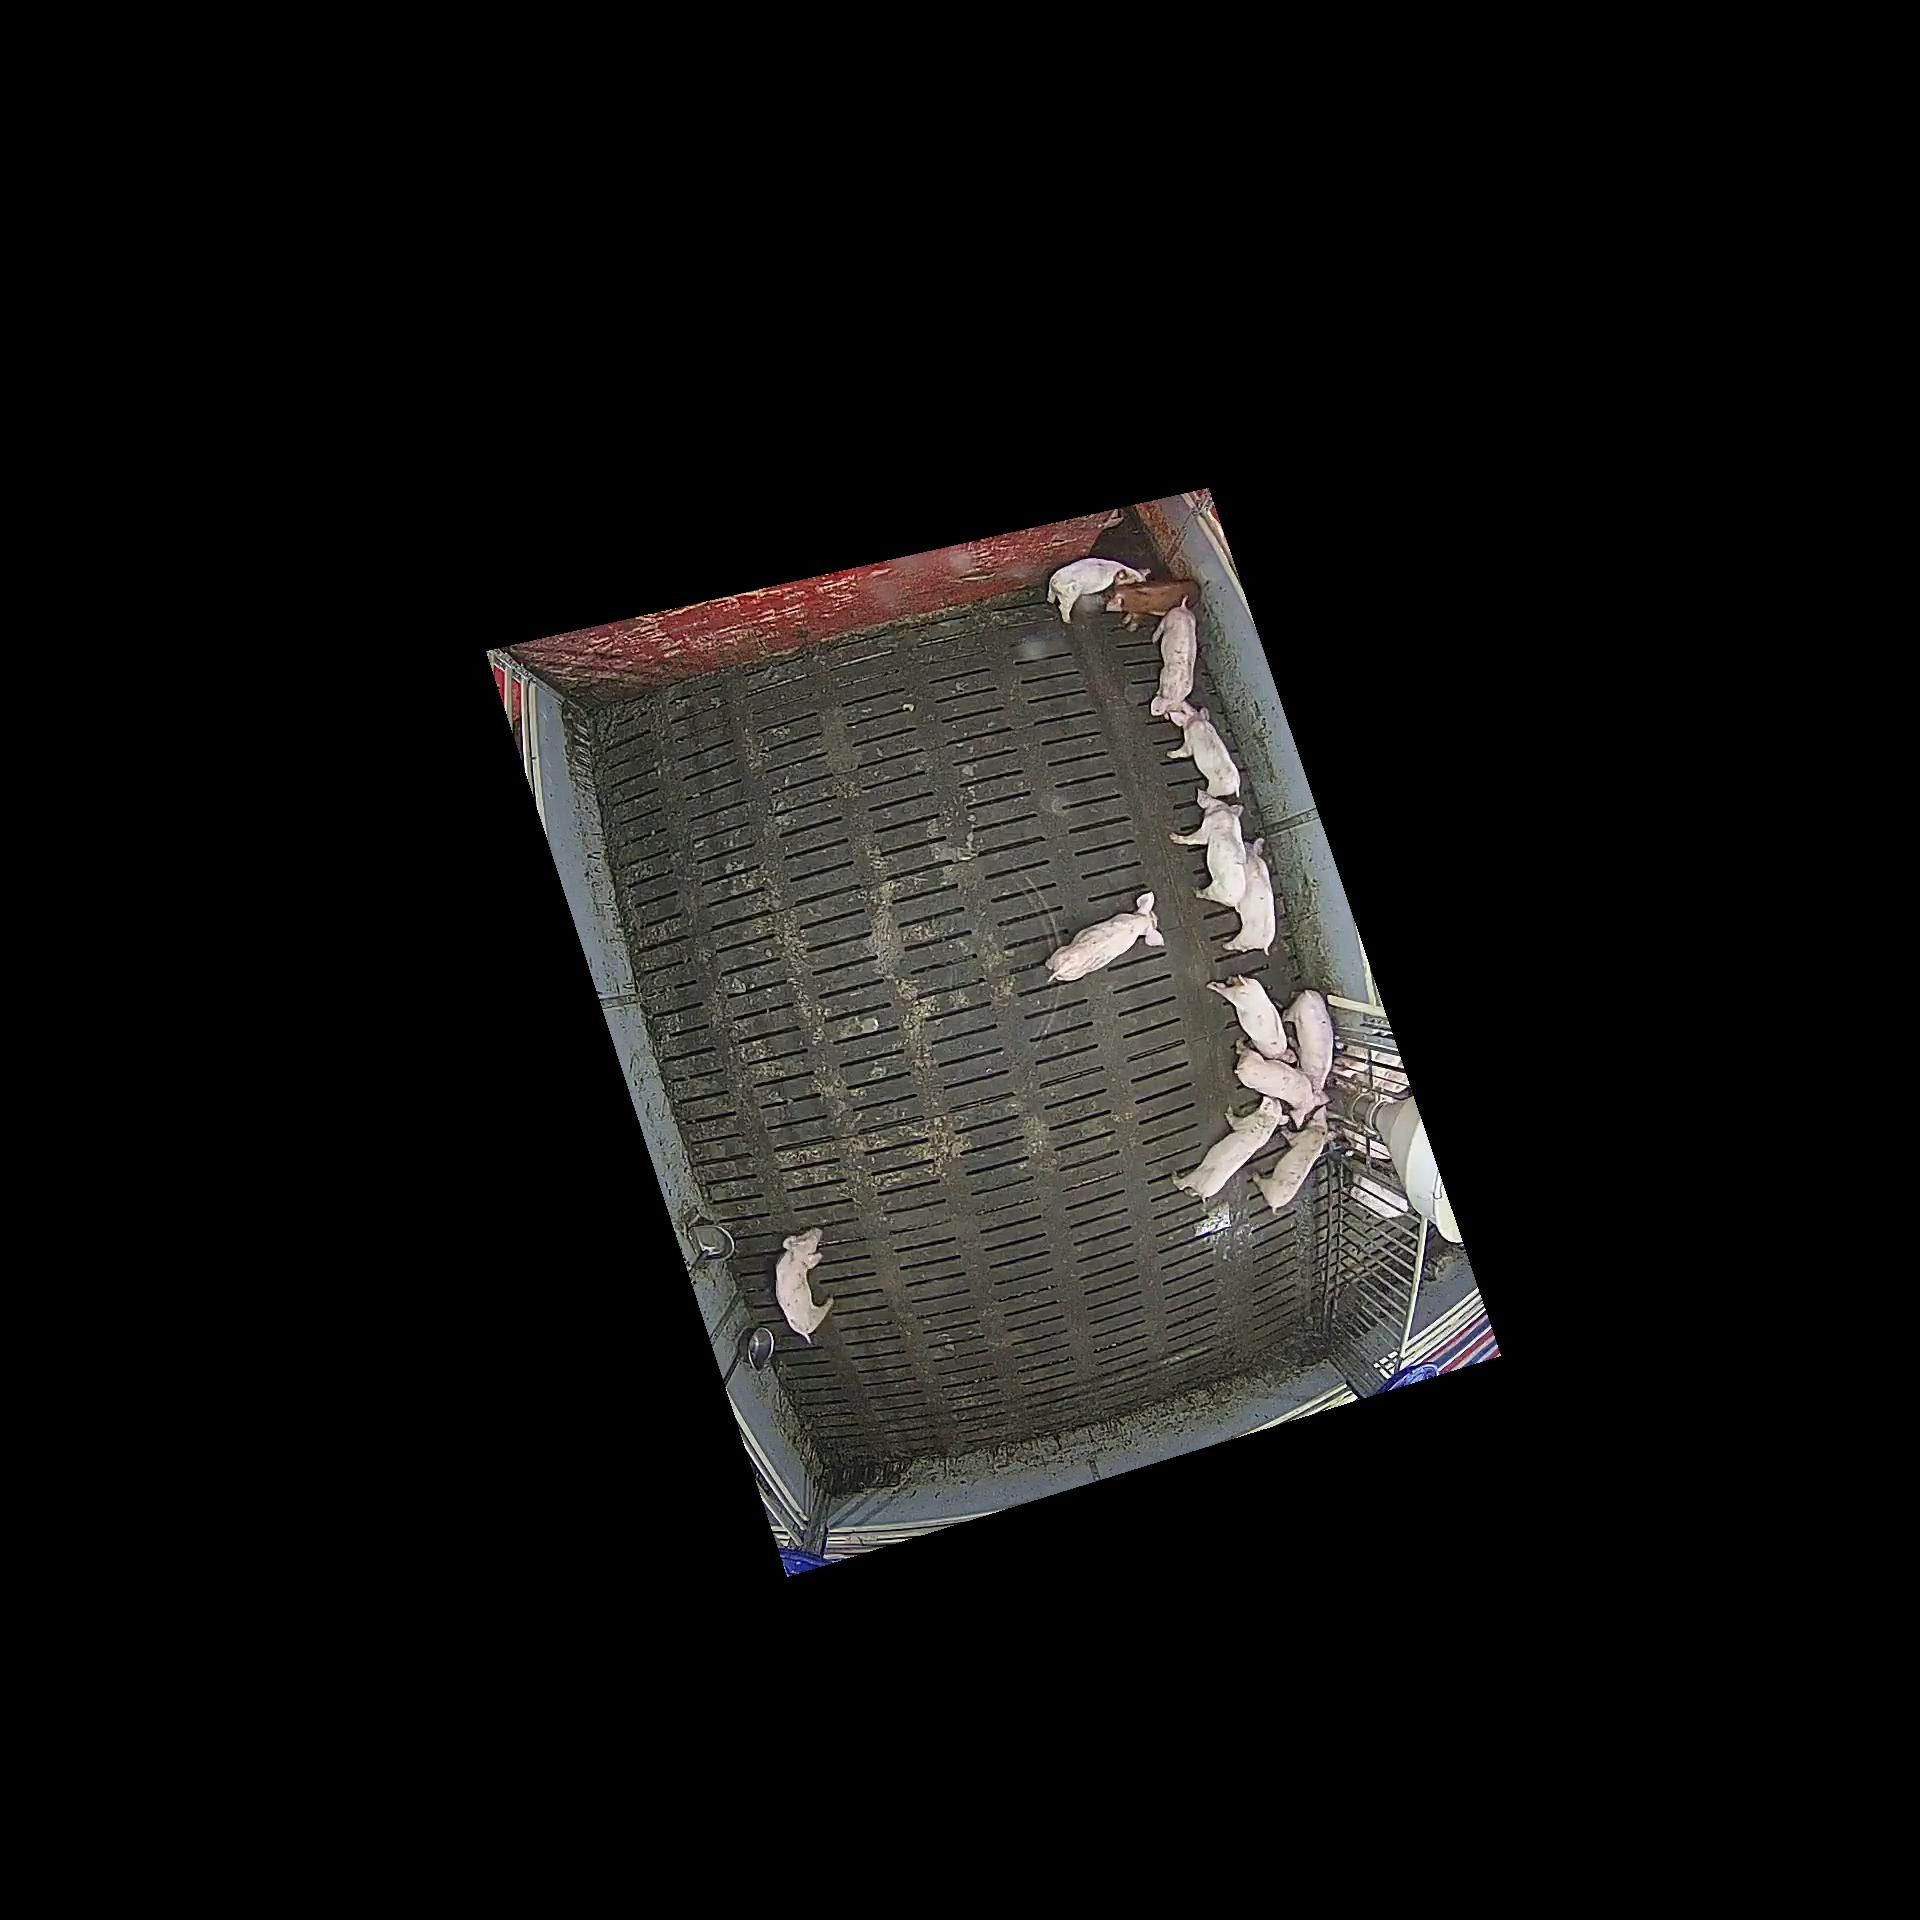pig: (1171, 1095, 1289, 1201), (1044, 891, 1166, 981), (1169, 789, 1245, 907), (1252, 1104, 1331, 1215), (1234, 1039, 1327, 1129), (1206, 974, 1296, 1062), (775, 1227, 833, 1345), (1167, 707, 1241, 798), (1048, 559, 1150, 622), (1224, 839, 1275, 955), (1152, 598, 1197, 716), (1282, 990, 1333, 1088), (1108, 578, 1201, 631)
